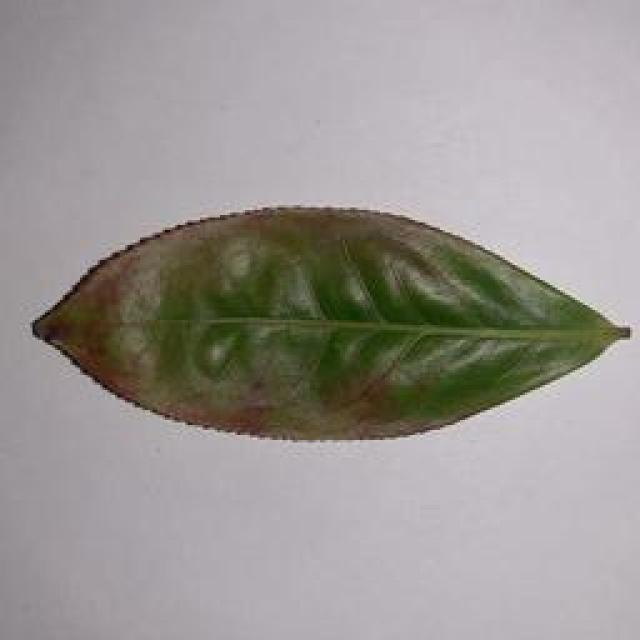Red Leaf Spot: (28, 185, 632, 448)
